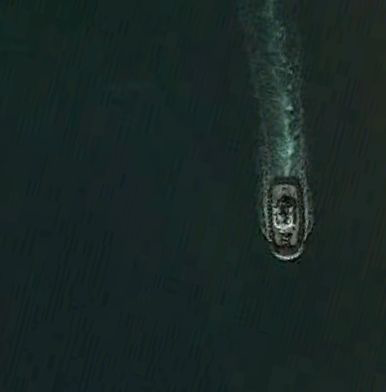boat: (261, 178, 310, 263)
